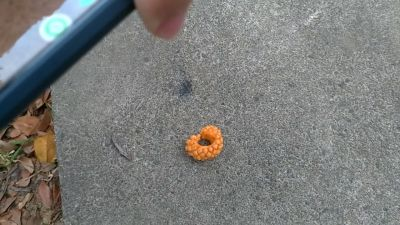eggs: (184, 123, 226, 164)
